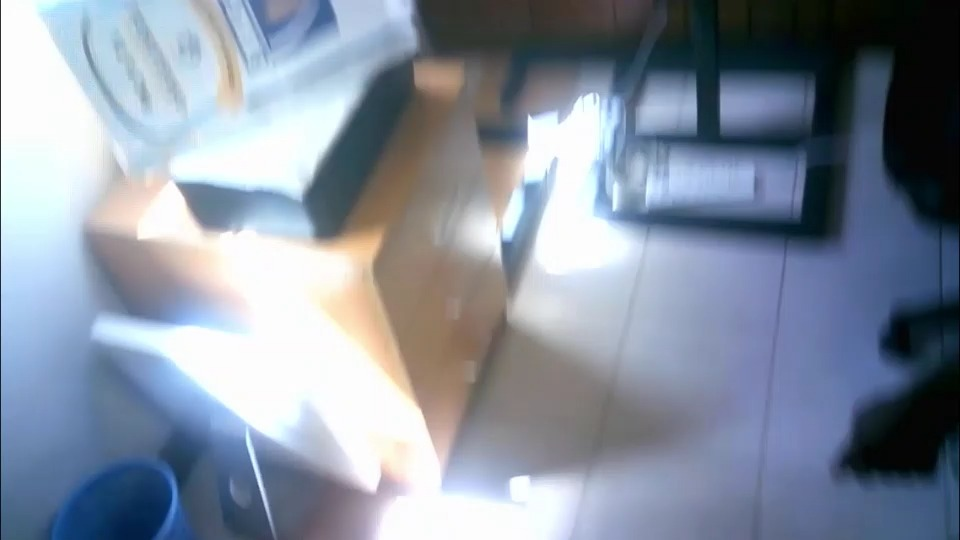wheat_flour_blue_label: (40, 3, 423, 164)
